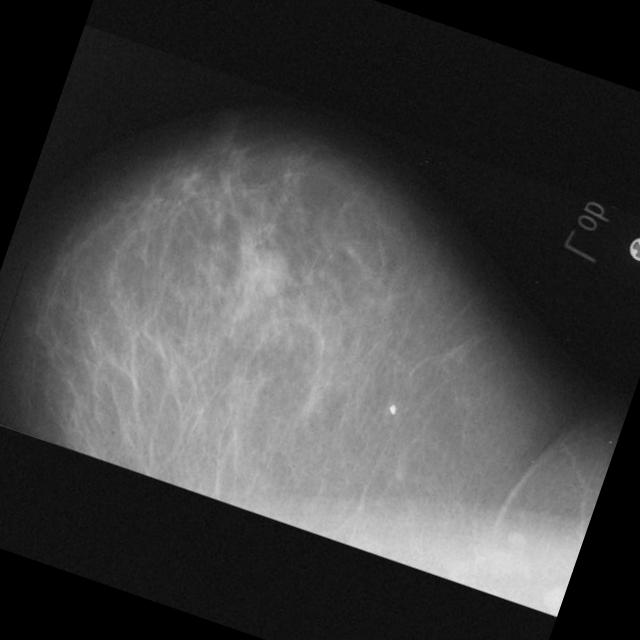CIRC: (232, 234, 302, 304)
